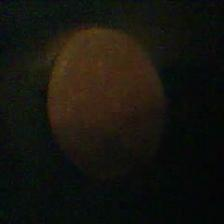fertile: (46, 27, 164, 174)
